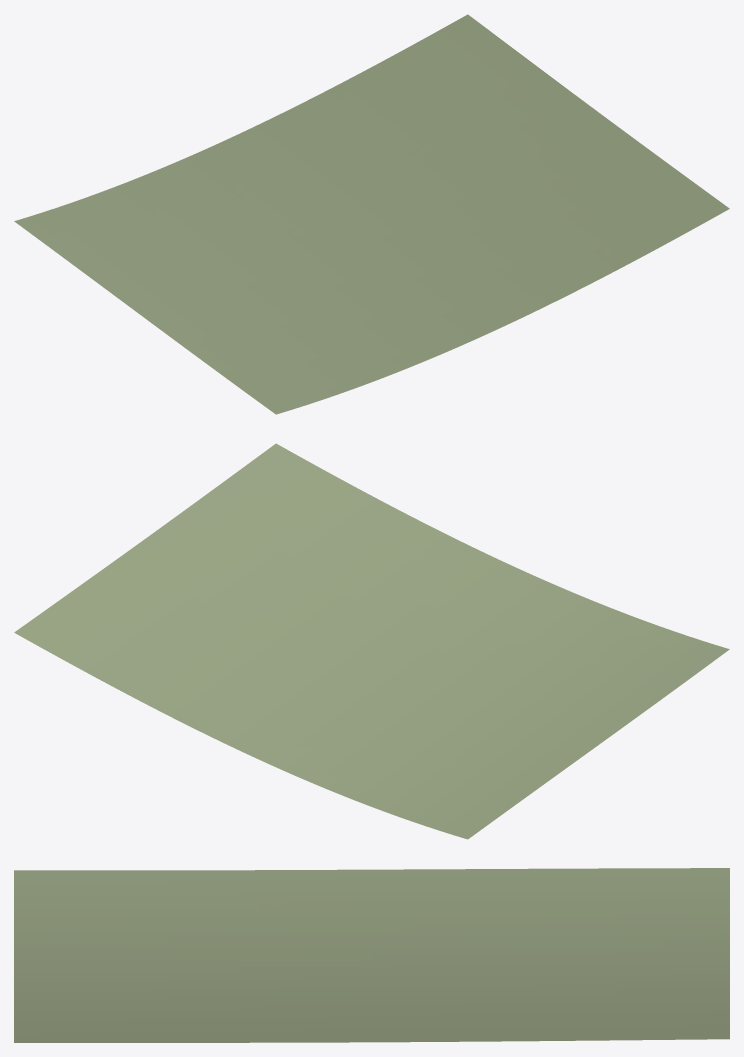
The model's file is desert-22-1.glb.
The picture shows the model from 3 angles, top to bottom: view 1: azimuth 30°, elevation 25°; view 2: azimuth 150°, elevation 25°; view 3: azimuth 270°, elevation 25°; orthographic projection. The views are drawn at different scales.
Parts seen in each view (by area): view 1: desert-22-1; view 2: desert-22-1; view 3: desert-22-1.
Boxes of the visible parts, x1,y1,x2,y2 form: desert-22-1: (14,14,729,414); desert-22-1: (14,443,729,839); desert-22-1: (14,868,729,1042).
Size of the model in its own units: 512 by 105 by 512.
